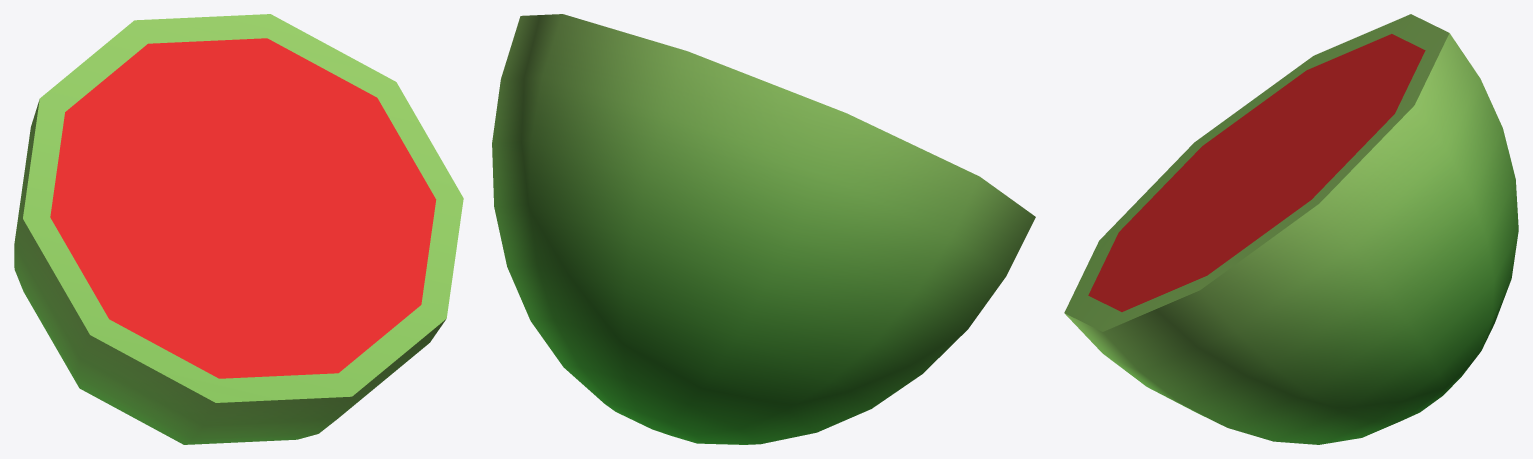
File: watermelon_half.fbx
3 views of the same model, side by side, from view 1: azimuth 30°, elevation 25°; view 2: azimuth 150°, elevation 25°; view 3: azimuth 270°, elevation 25° (orthographic). The views are drawn at different scales.
Visible parts, largest first — view 1: watermelon_half; view 2: watermelon_half; view 3: watermelon_half.
Boxes of the visible parts, x1,y1,x2,y2 form: watermelon_half: (14,14,463,444); watermelon_half: (492,14,1035,444); watermelon_half: (1064,14,1518,444).
Size of the model in its own units: 112 by 100 by 109.
